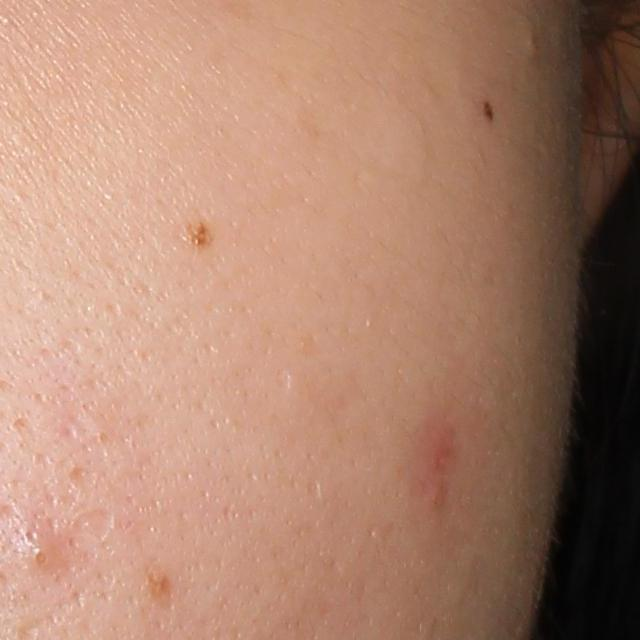atrophic_scar: (71, 508, 113, 542), (274, 366, 292, 392)
comedo: (22, 535, 68, 582)
nevus: (181, 212, 217, 252), (479, 96, 495, 130)
papule: (412, 424, 457, 523)
